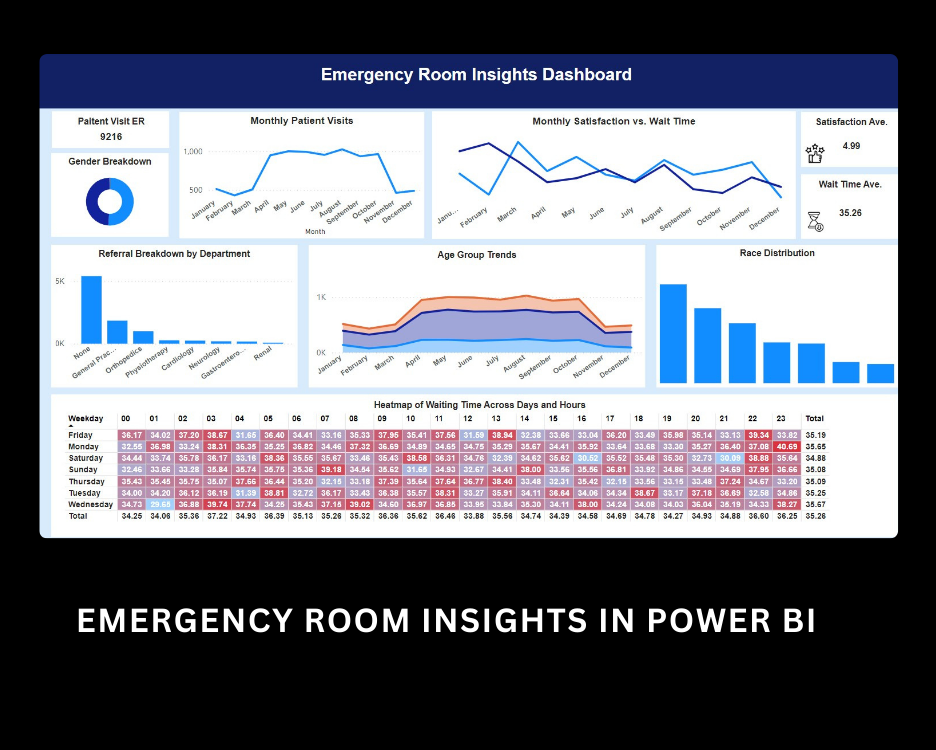

Layout of this report page (visuals, bound fields, positions):
{"tool":"powerbi","page":{"name":"Page 1","canvas":[1280,720],"ordinal":0},"visuals":[{"type":"shape","title":"Emergency Room Insights Dashboard","box":[1.2,0,1279.4,80.9],"z":0},{"type":"clusteredColumnChart","title":"Race Distribution","fields":{"Category":["Hospital ER(1).patient_race"],"Y":["CountNonNull(Hospital ER(1).patient_race)"]},"box":[913.4,281.2,356.4,209.6],"z":1000},{"type":"donutChart","title":"Gender Breakdown","fields":{"Category":["Hospital ER(1).patient_gender"],"Y":["CountNonNull(Hospital ER(1).patient_gender)"]},"box":[21.5,146.9,172.8,122.7],"z":2000},{"type":"clusteredColumnChart","title":"Referral Breakdown by Department","fields":{"Category":["Hospital ER(1).department_referral"],"Y":["CountNonNull(Hospital ER(1).department_referral)"]},"box":[21.5,281.2,362.7,209.6],"z":3000},{"type":"card","title":"Paitent Visit ER","fields":{"Values":["CountNonNull(Hospital ER(1).patient_id)"]},"box":[21.5,85,173.1,54.3],"z":4000},{"type":"lineChart","title":"Monthly Satisfaction vs. Wait Time","fields":{"Category":["Hospital ER(1).date.Variation.Date Hierarchy.Month"],"Y":["Avg(Hospital ER(1).patient_sat_score)"],"Y2":["Avg(Hospital ER(1).patient_waittime)"]},"box":[583,85.1,536.4,188.1],"z":5000},{"type":"stackedAreaChart","title":"Age Group Trends","fields":{"Category":["Hospital ER(1).date.Variation.Date Hierarchy.Month"],"Series":["Hospital ER(1).Age_Group"],"Y":["CountNonNull(Hospital ER(1).patient_id)"]},"box":[400.3,281.2,496.1,209.6],"z":6000},{"type":"pivotTable","title":"Heatmap of Waiting Time Across Days and Hours","fields":{"Rows":["Hospital ER(1).Weekday"],"Columns":["Hospital ER(1).Hour"],"Values":["Avg(Hospital ER(1).patient_waittime)"]},"box":[21.5,501.5,1248.4,209.6],"z":7000},{"type":"lineChart","title":"Monthly Patient Visits","fields":{"Category":["Hospital ER(1).date.Variation.Date Hierarchy.Month"],"Y":["CountNonNull(Hospital ER(1).patient_id)"]},"box":[209.9,86,361.5,186.4],"z":8000},{"type":"card","title":"Wait Time Ave. ","fields":{"Values":["Avg(Hospital ER(1).Waittime)"]},"box":[1126.6,178.2,143.3,94.9],"z":9000},{"type":"card","title":"Satisfaction Ave.","fields":{"Values":["Avg(Hospital ER(1).Patien_Satisfaction)"]},"box":[1126.4,86,146.4,80.9],"z":10000},{"type":"image","box":[1127.4,224.3,41,46.1],"z":11000},{"type":"image","box":[1126.4,127,42,38.9],"z":12000}]}

Visuals, with their boxes on the page's 1280x720 design canvas (x1, y1, x2, y2). These are canvas units, not pixel positions in the 936x750 screenshot, which may show the page scaled, cropped or inside an application window:
"Emergency Room Insights Dashboard" shape: pyautogui.locateOnScreen(1, 0, 1281, 81)
"Race Distribution" clusteredColumnChart: pyautogui.locateOnScreen(913, 281, 1270, 491)
"Gender Breakdown" donutChart: pyautogui.locateOnScreen(22, 147, 194, 270)
"Referral Breakdown by Department" clusteredColumnChart: pyautogui.locateOnScreen(22, 281, 384, 491)
"Paitent Visit ER" card: pyautogui.locateOnScreen(22, 85, 195, 139)
"Monthly Satisfaction vs. Wait Time" lineChart: pyautogui.locateOnScreen(583, 85, 1119, 273)
"Age Group Trends" stackedAreaChart: pyautogui.locateOnScreen(400, 281, 896, 491)
"Heatmap of Waiting Time Across Days and Hours" pivotTable: pyautogui.locateOnScreen(22, 502, 1270, 711)
"Monthly Patient Visits" lineChart: pyautogui.locateOnScreen(210, 86, 571, 272)
"Wait Time Ave. " card: pyautogui.locateOnScreen(1127, 178, 1270, 273)
"Satisfaction Ave." card: pyautogui.locateOnScreen(1126, 86, 1273, 167)
image: pyautogui.locateOnScreen(1127, 224, 1168, 270)
image: pyautogui.locateOnScreen(1126, 127, 1168, 166)
